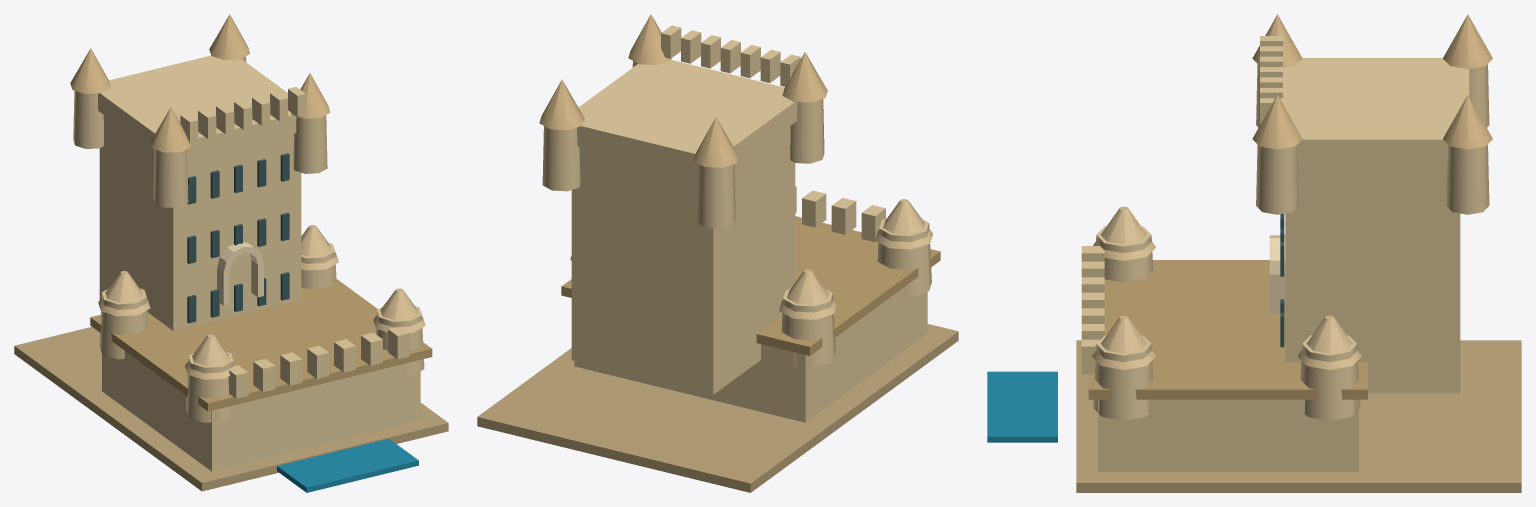
File: belem-tower.glb
3 views of the same model, side by side, from view 1: azimuth 30°, elevation 25°; view 2: azimuth 150°, elevation 25°; view 3: azimuth 270°, elevation 25° (orthographic). The views are drawn at different scales.
Parts seen in each view (by area): view 1: body_D5C5A5, body_B9AA8C, base_C8B99A, battlements_D5C5A5, roof_C9BB9C, roof_C1B092, water_edge_6A9695, detail_6E7262, body_E6D7B9; view 2: body_D5C5A5, base_C8B99A, body_B9AA8C, battlements_D5C5A5, roof_C1B092, roof_C9BB9C; view 3: body_D5C5A5, base_C8B99A, body_B9AA8C, roof_C1B092, water_edge_6A9695, roof_C9BB9C, battlements_D5C5A5, body_E6D7B9.
Part boxes in pixels (bbox=[...]): body_D5C5A5: bbox=[73, 55, 424, 471]; body_B9AA8C: bbox=[90, 279, 432, 411]; base_C8B99A: bbox=[14, 327, 448, 491]; battlements_D5C5A5: bbox=[180, 87, 409, 398]; roof_C9BB9C: bbox=[98, 225, 425, 379]; roof_C1B092: bbox=[70, 14, 330, 152]; water_edge_6A9695: bbox=[277, 439, 418, 492]; detail_6E7262: bbox=[187, 153, 289, 323]; body_E6D7B9: bbox=[217, 242, 263, 305]; body_D5C5A5: bbox=[542, 60, 931, 422]; base_C8B99A: bbox=[477, 324, 958, 492]; body_B9AA8C: bbox=[561, 216, 940, 355]; battlements_D5C5A5: bbox=[661, 25, 885, 241]; roof_C1B092: bbox=[539, 14, 827, 167]; roof_C9BB9C: bbox=[570, 199, 932, 319]; body_D5C5A5: bbox=[1093, 58, 1489, 471]; base_C8B99A: bbox=[1076, 340, 1521, 492]; body_B9AA8C: bbox=[1088, 260, 1367, 399]; roof_C1B092: bbox=[1252, 14, 1492, 149]; water_edge_6A9695: bbox=[987, 371, 1057, 442]; roof_C9BB9C: bbox=[1092, 206, 1361, 369]; battlements_D5C5A5: bbox=[1081, 36, 1282, 374]; body_E6D7B9: bbox=[1269, 235, 1285, 313].
Size of the model in its own units: 0.6322 by 0.7586 by 1.
